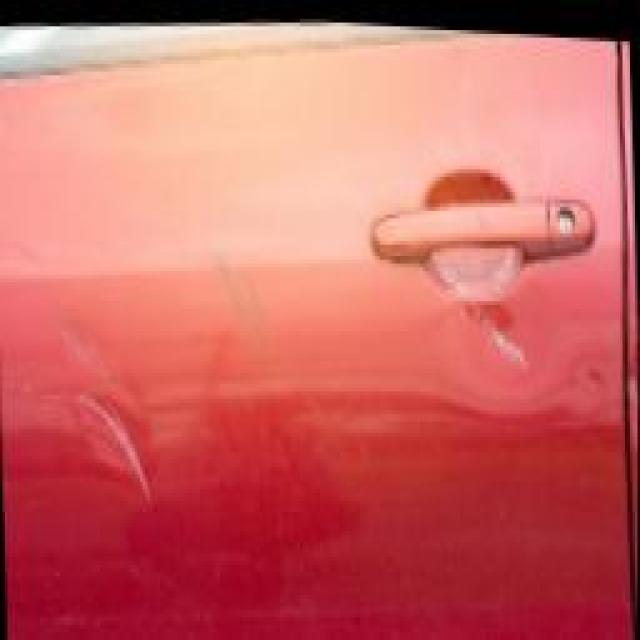Door: (0, 139, 567, 583)
